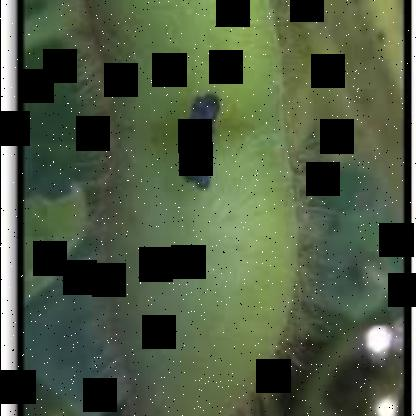oruga: (179, 90, 225, 200)
